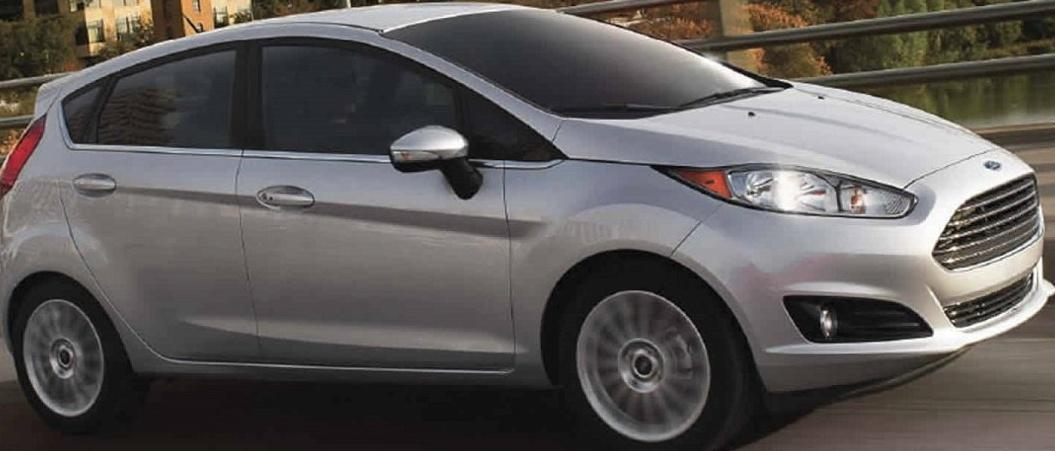Cars: (1, 5, 1054, 448)
